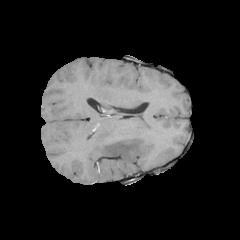glioma: (98, 111, 150, 166)
